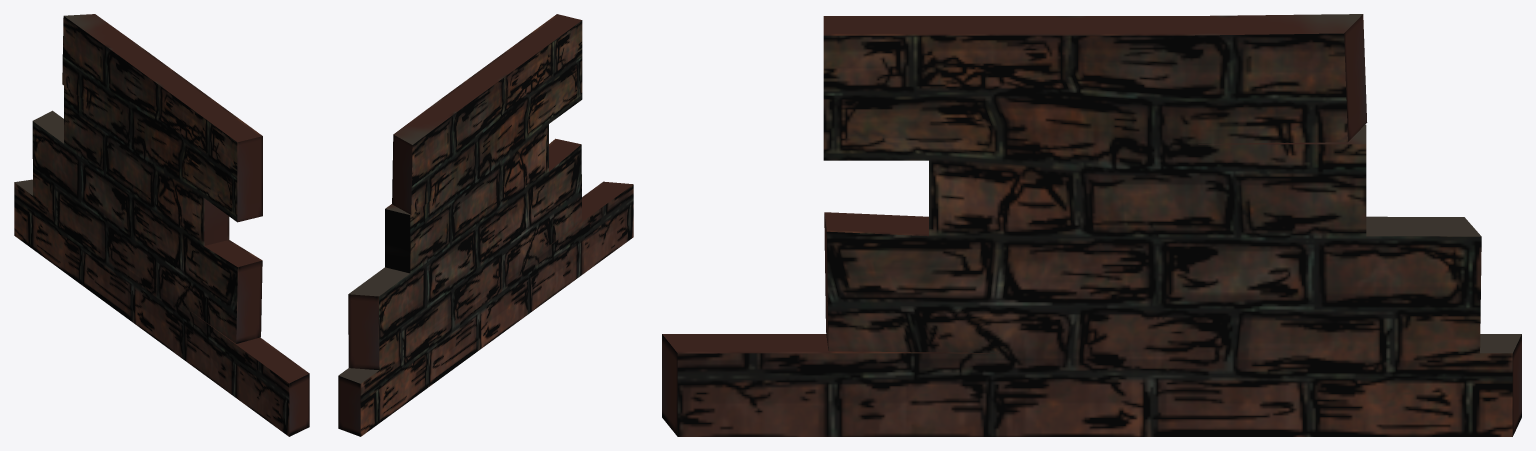
File: BrickBldHoleVer_4.fbx
3 renders of one model, left to right at view 1: azimuth 30°, elevation 25°; view 2: azimuth 150°, elevation 25°; view 3: azimuth 270°, elevation 25°, orthographic. The views are drawn at different scales.
Parts seen in each view (by area): view 1: pCube701; view 2: pCube701; view 3: pCube701.
Part boxes in pixels (box(x1,y1,x2,y2)): pCube701: box(14, 14, 309, 436); pCube701: box(338, 14, 633, 436); pCube701: box(662, 14, 1521, 436).
Size of the model in its own units: 0.538 by 4.81 by 9.32.
